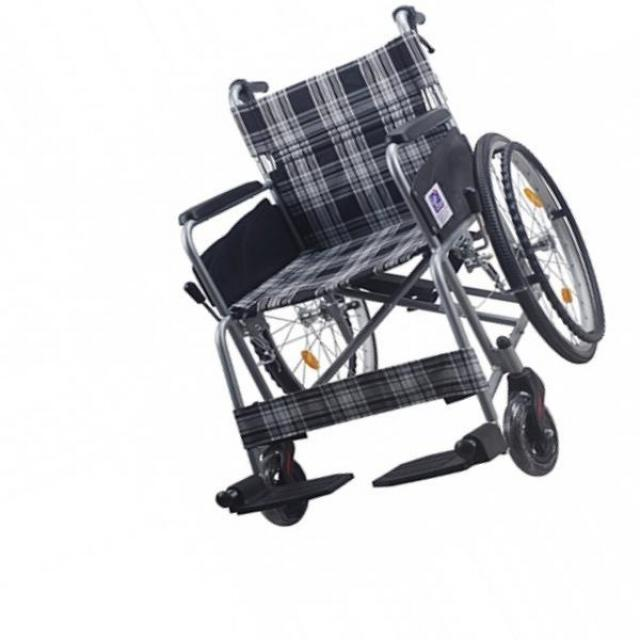wheelchair: (173, 0, 621, 536)
